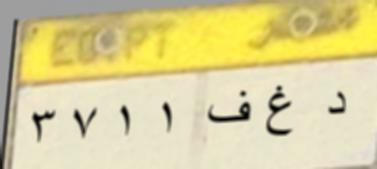1: (116, 100, 138, 142), (156, 100, 179, 140)
3: (26, 105, 57, 148)
7: (70, 102, 100, 143)
daal: (321, 86, 352, 124)
faa: (203, 87, 254, 130)
ghayn: (262, 83, 296, 140)
